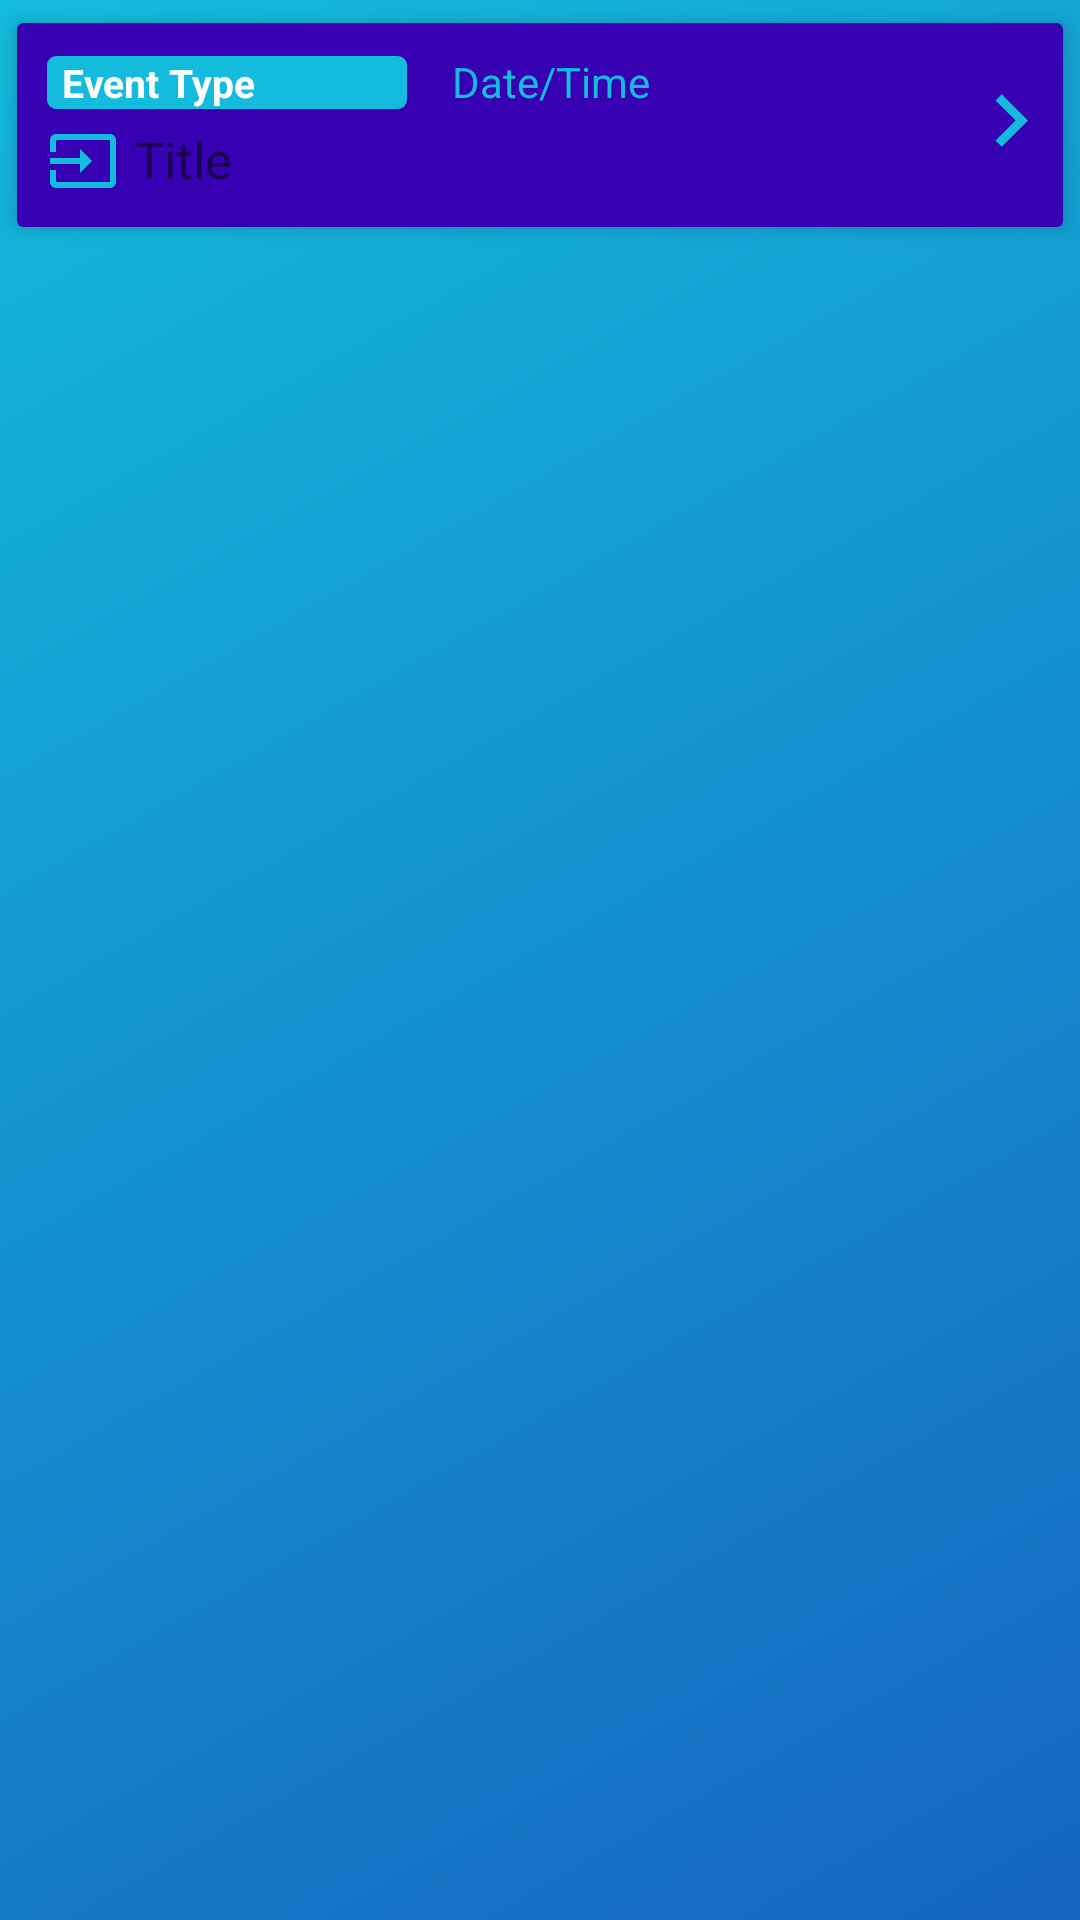

Icons on this 1080*1920 Android screen, each with the point to tap as [x,y]:
othericons rightarrow: [1011,120]
